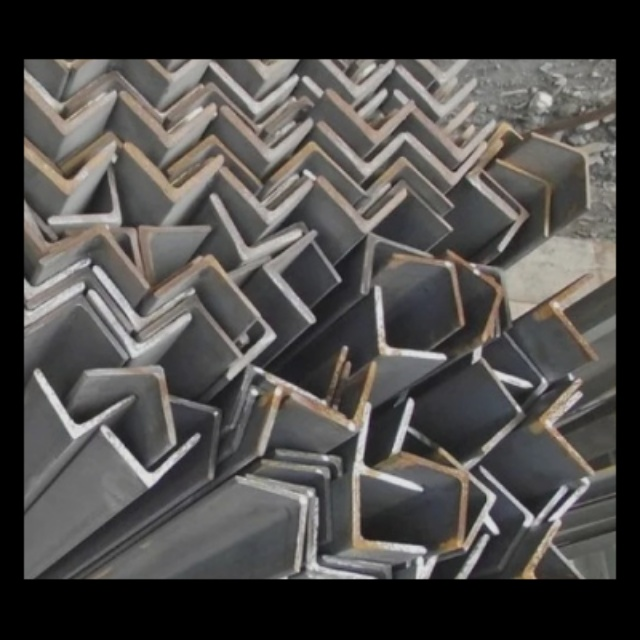Angle: (89, 293, 190, 350), (89, 370, 171, 439), (43, 231, 145, 286), (161, 258, 258, 315), (467, 362, 520, 463), (38, 376, 135, 431), (406, 456, 466, 543), (240, 482, 303, 564), (144, 301, 240, 354), (33, 274, 127, 324), (101, 270, 193, 320), (267, 462, 329, 536), (313, 505, 374, 579), (296, 368, 372, 427), (378, 290, 443, 358), (545, 380, 592, 472), (128, 149, 222, 195), (448, 254, 500, 337), (216, 198, 294, 252), (484, 472, 529, 565), (275, 145, 363, 192), (399, 258, 463, 322), (264, 224, 337, 278), (104, 432, 195, 475), (534, 135, 589, 206), (24, 144, 112, 187), (173, 139, 259, 182), (324, 184, 404, 229), (228, 175, 311, 218), (24, 238, 87, 294), (499, 161, 548, 233), (368, 183, 449, 226), (418, 110, 492, 156), (226, 113, 309, 154), (375, 161, 452, 205), (554, 276, 595, 358), (173, 399, 219, 471), (27, 89, 114, 127), (174, 87, 256, 127), (331, 96, 409, 138), (214, 66, 294, 106), (322, 127, 402, 167), (272, 235, 311, 317), (413, 134, 484, 177), (402, 72, 476, 113), (24, 265, 81, 318), (147, 228, 207, 278), (365, 238, 429, 283), (486, 174, 525, 247), (505, 336, 545, 405), (528, 524, 577, 579), (71, 76, 150, 110), (473, 144, 511, 214)
